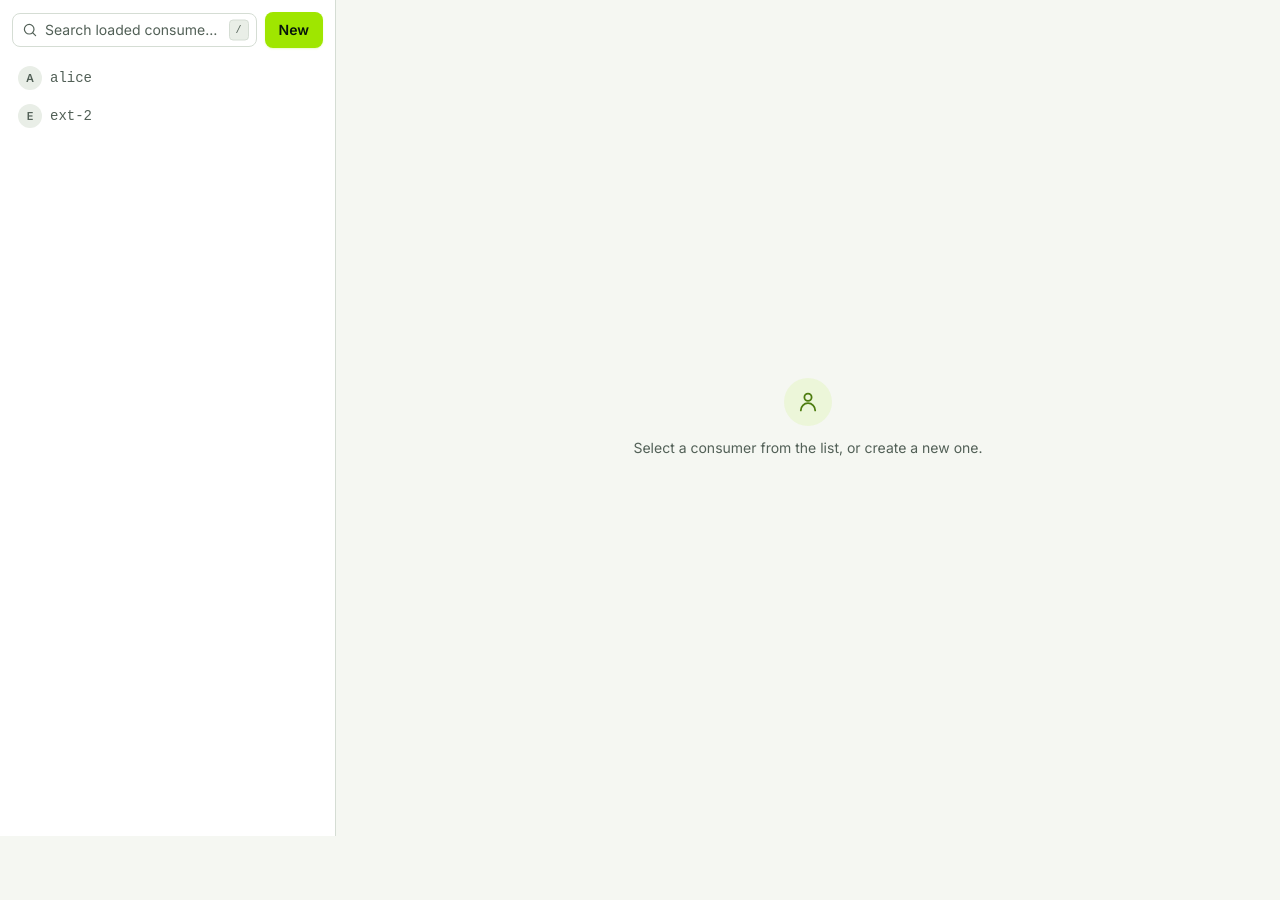
it: LiveConsumersView › creates a consumer with a POST, never sending null values
Click the button "New": (294, 30) [264,12,323,48]
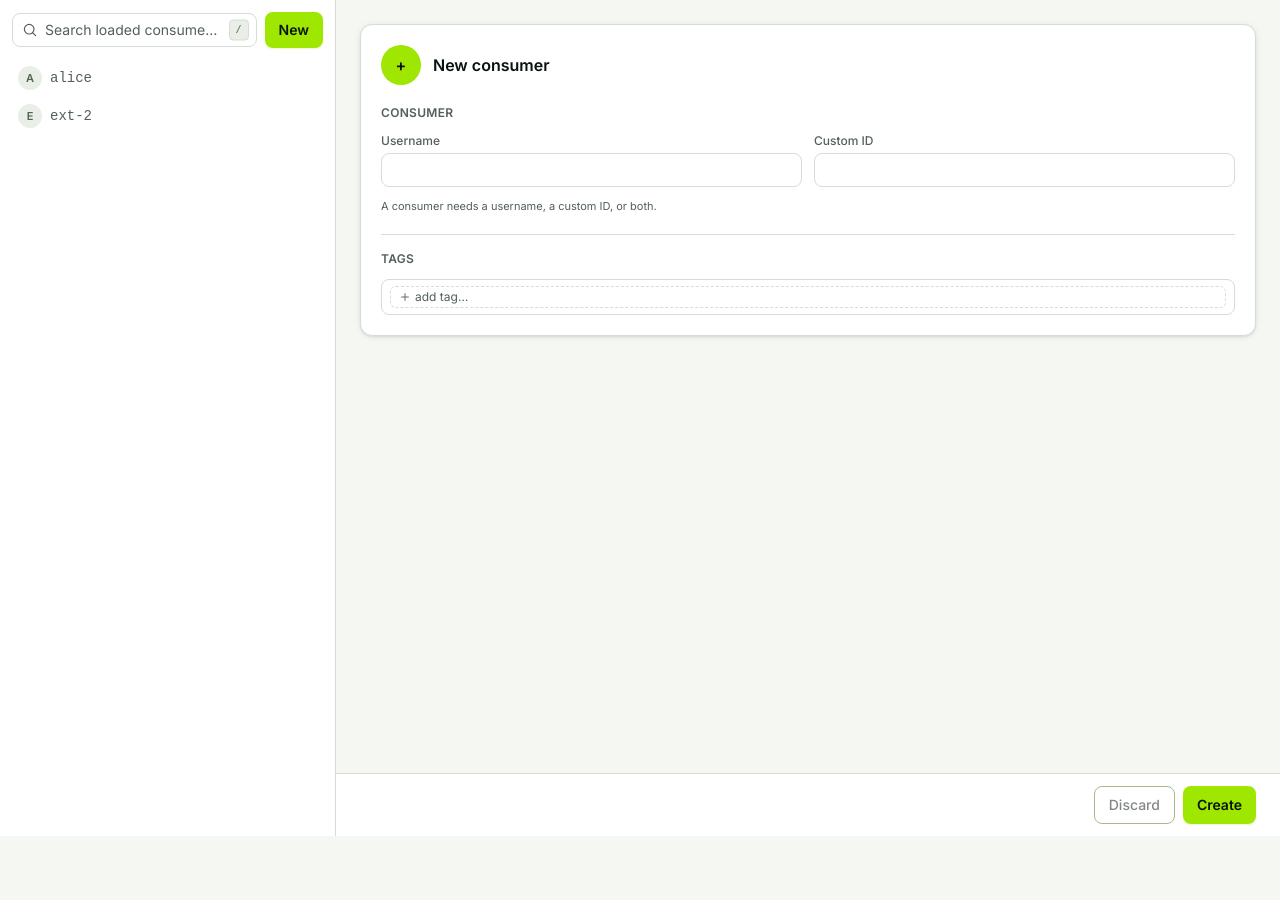
In the field with test id "consumer-username": (592, 170) [381,153,802,187], type "  bob "
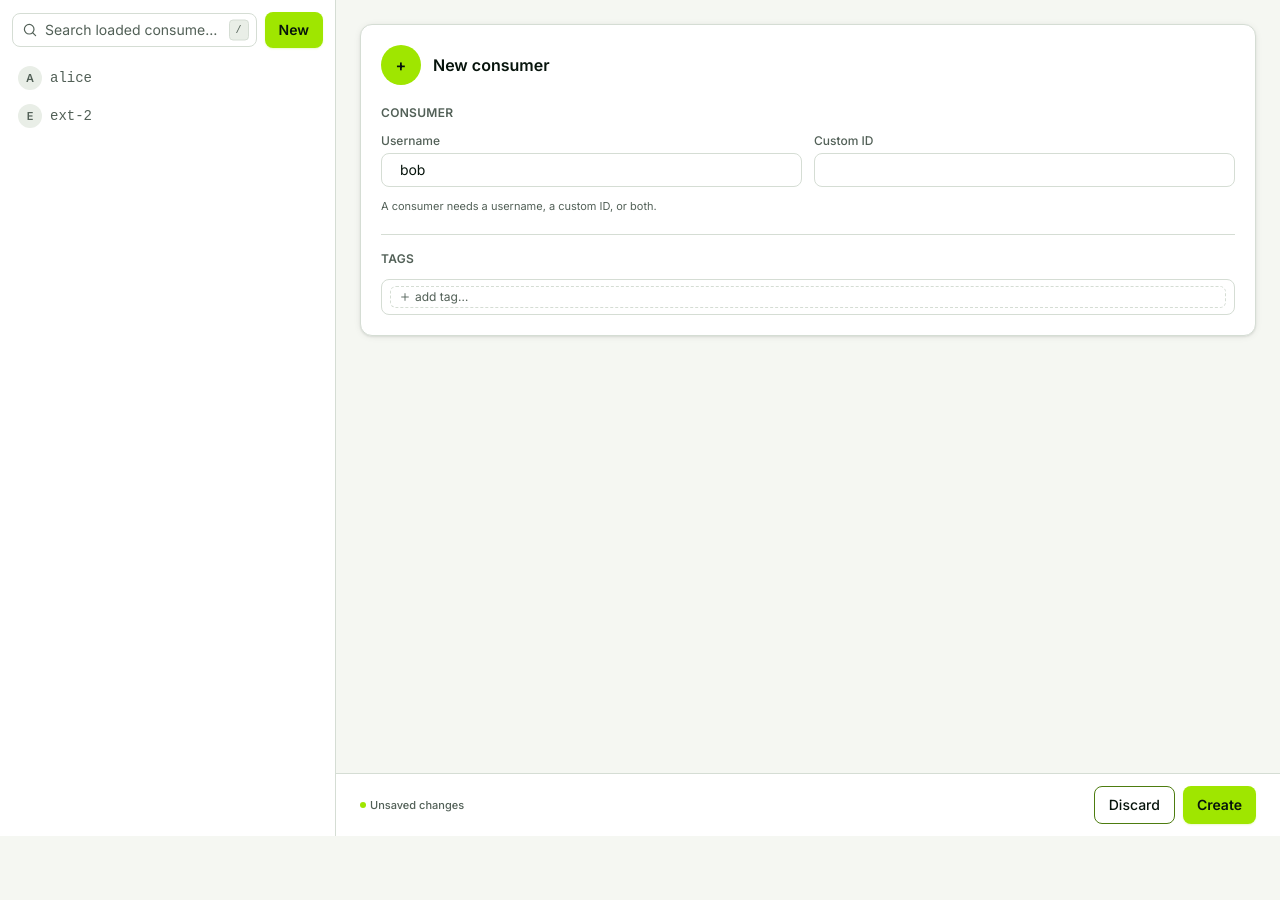
Click the button "Create": (1219, 805) [1183,786,1256,824]
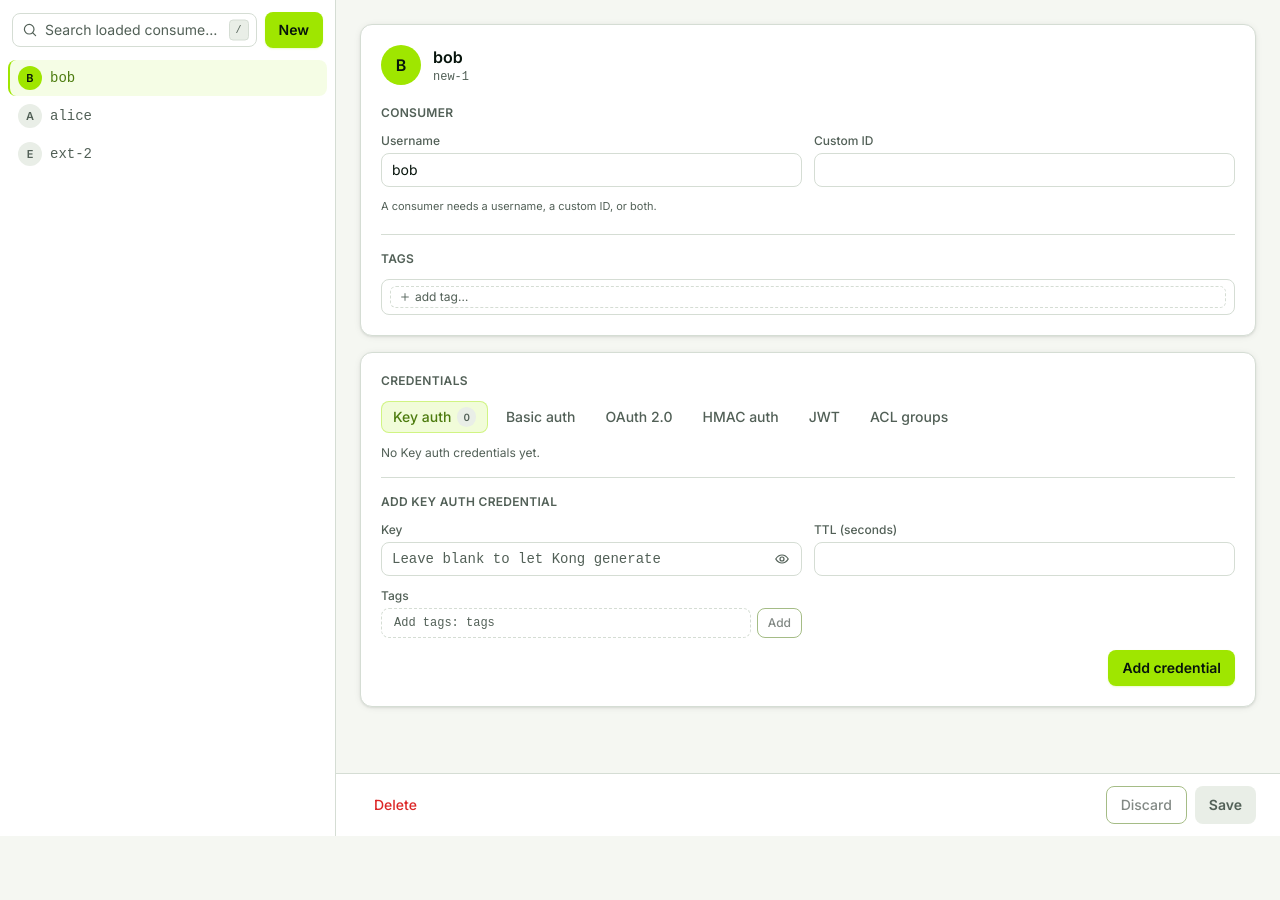
Result: the list item with test id "consumer-row" shows "bob" at [50,70,75,86]
